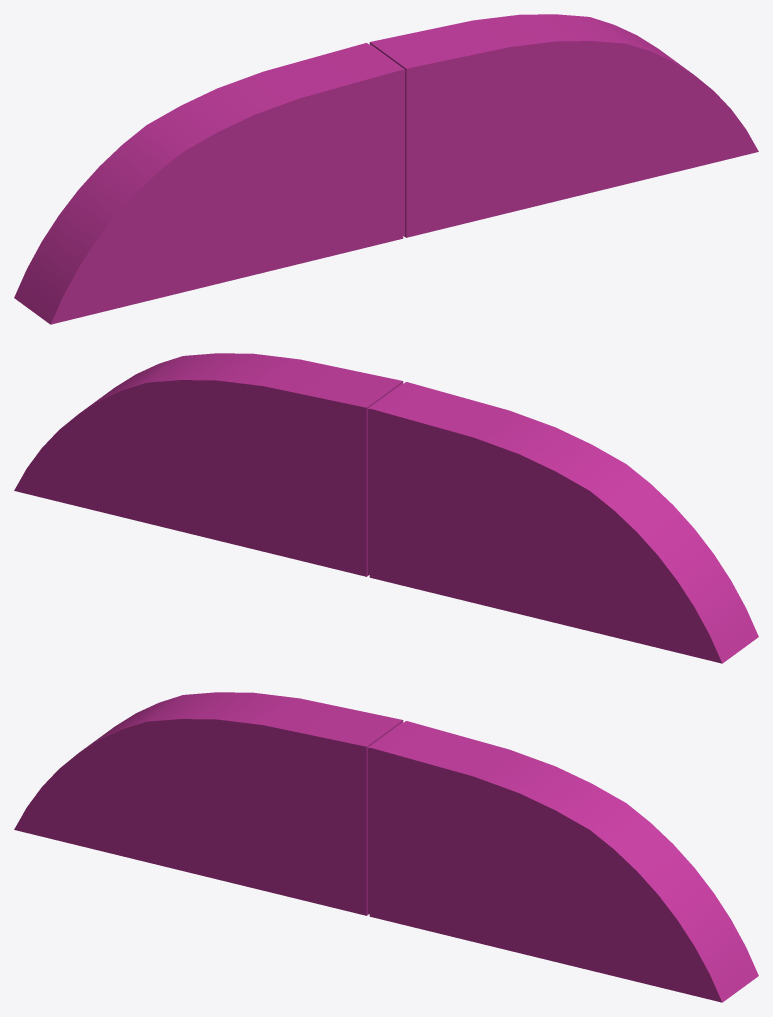
File: OBS0110029.fbx
The picture shows the model from 3 angles, top to bottom: view 1: azimuth 30°, elevation 25°; view 2: azimuth 150°, elevation 25°; view 3: azimuth 330°, elevation 25°; orthographic projection.
Visible parts, largest first — view 1: smOBS0110029; view 2: smOBS0110029; view 3: smOBS0110029.
Part boxes in pixels (<box>): smOBS0110029: <box>14,14,758,324</box>; smOBS0110029: <box>14,353,758,663</box>; smOBS0110029: <box>14,692,758,1002</box>.
Size of the model in its own units: 839 by 191 by 75.02.
1 material, 1 textured.
